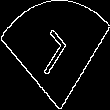L_SW: (35, 26, 75, 84)
